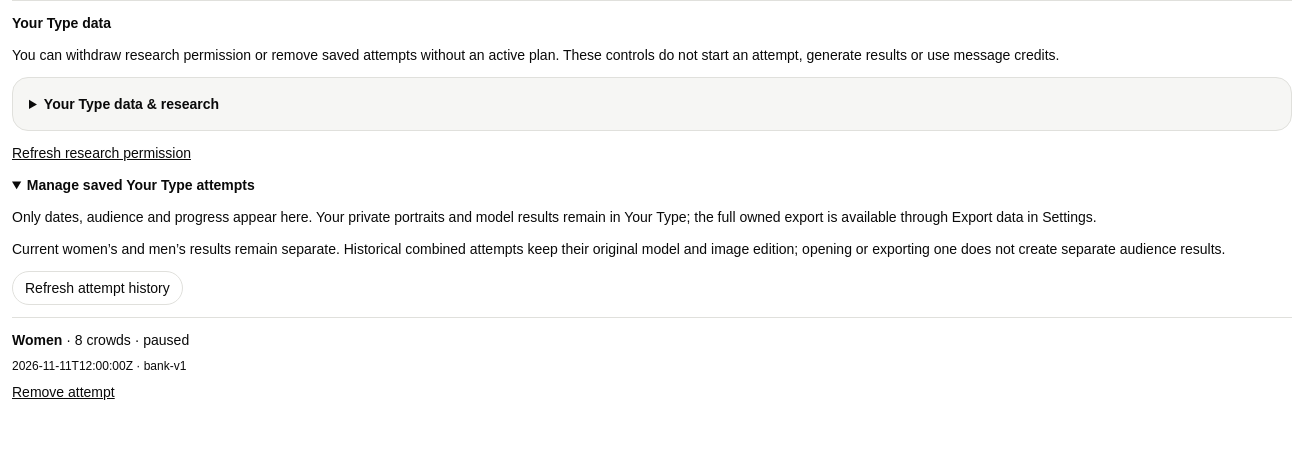
it: an unknown deletion is not claimed complete or automatically retried
What coordinates should you click on to do the following:
click the button "Remove attempt"
I would click on:
 (63, 392)
Its box is [12,382,115,402].
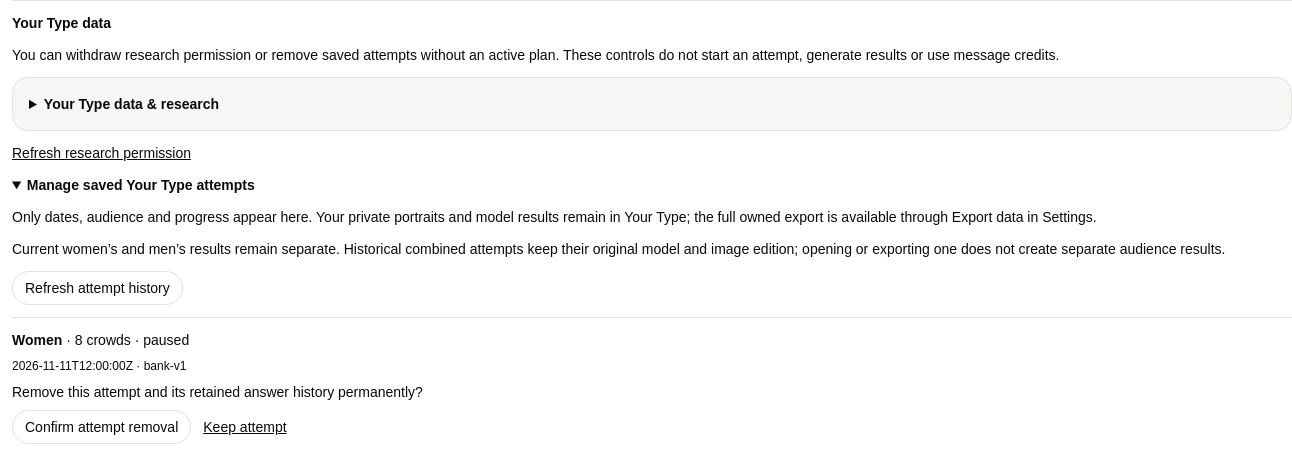
What coordinates should you click on to do the following:
click the button "Confirm attempt removal"
I would click on:
 (102, 427)
Its box is [12,410,191,444].
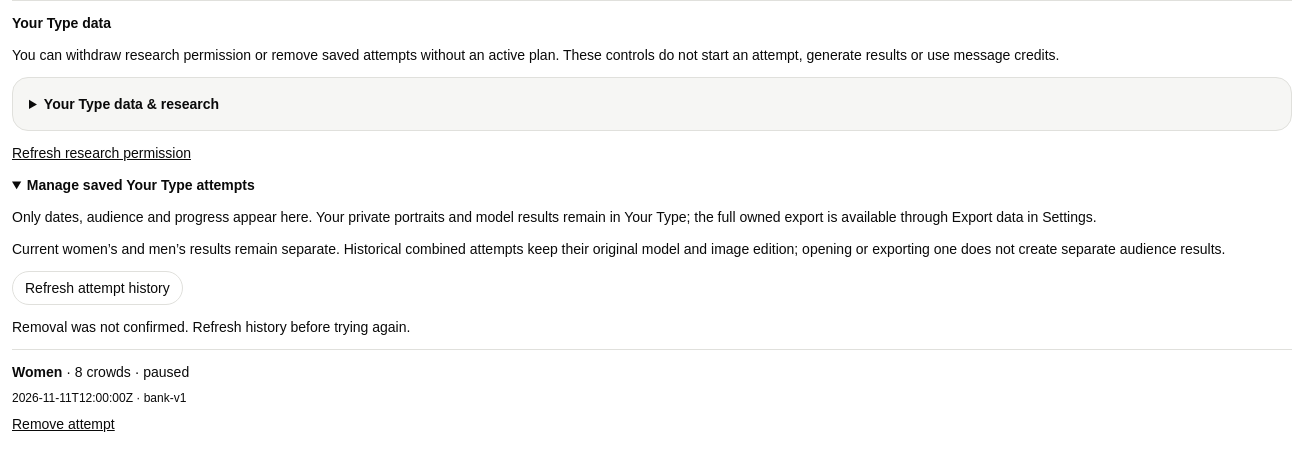
Expected: the text "Removal was not confirmed" is shown, [12,319,410,335]
Expected: the button "Remove attempt" is disabled, [12,414,115,434]
